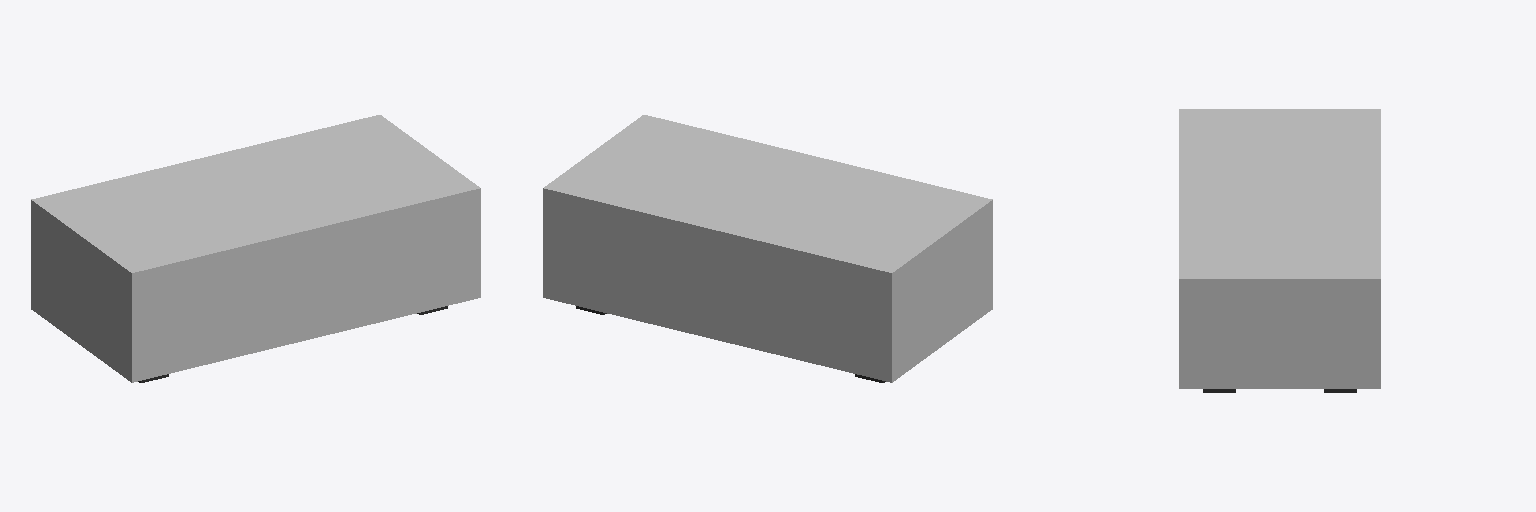
File: tv-bench.obj
3 views of the same model, side by side, from view 1: azimuth 30°, elevation 25°; view 2: azimuth 150°, elevation 25°; view 3: azimuth 270°, elevation 25° (orthographic).
Bounding box in the file's own units: 1 × 0.34 × 0.5.